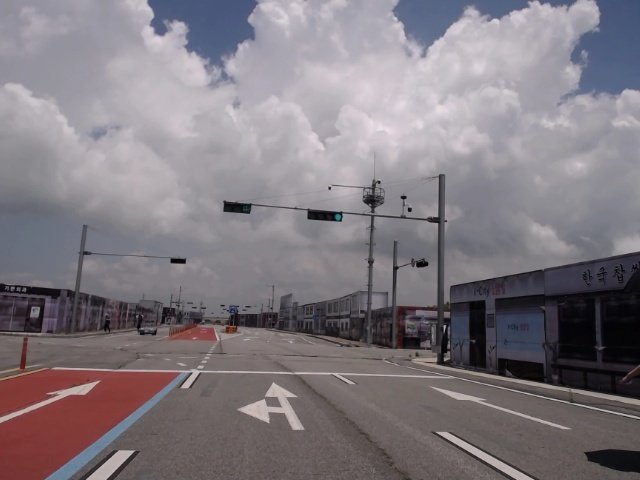straight_green_4: (308, 209, 344, 221)
